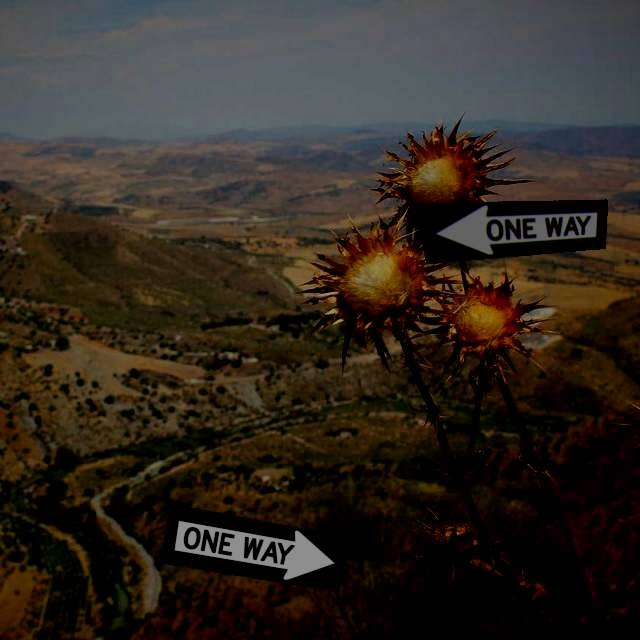ONE_WAY_ left: (415, 199, 608, 264)
ONE_WAY_ right: (160, 503, 353, 592)
